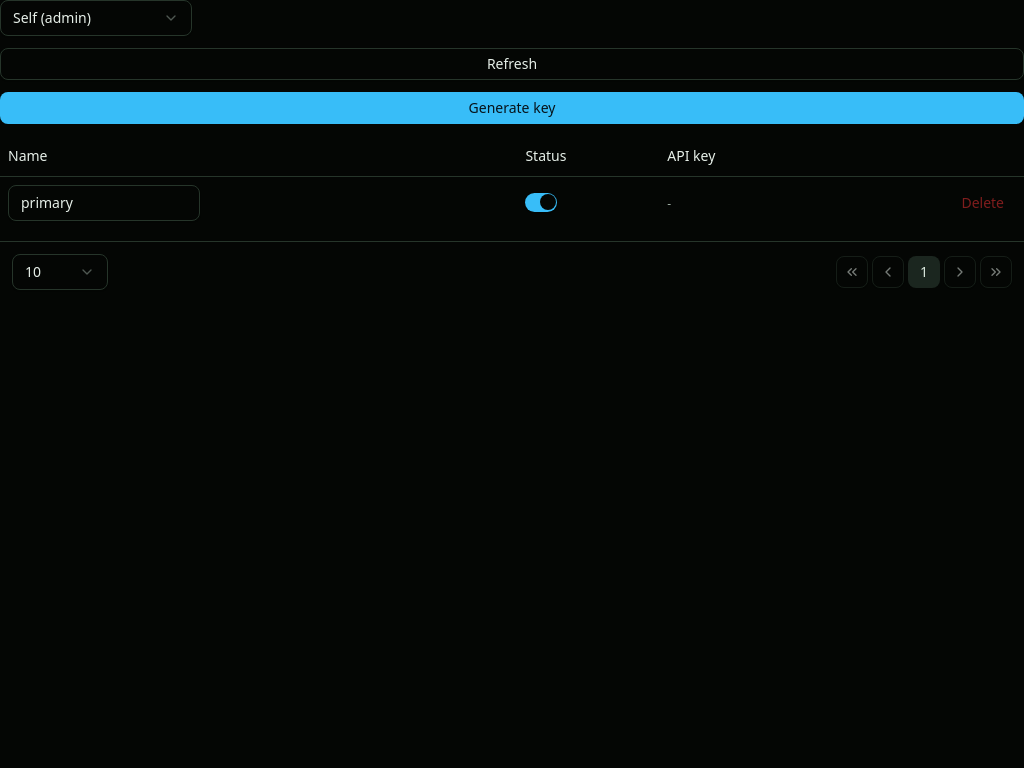
Test: API key route › preserves a failed create draft and shows only the flat one-time secret on retry
Click the button "Generate key" at (512, 108), box [0,92,1023,124]
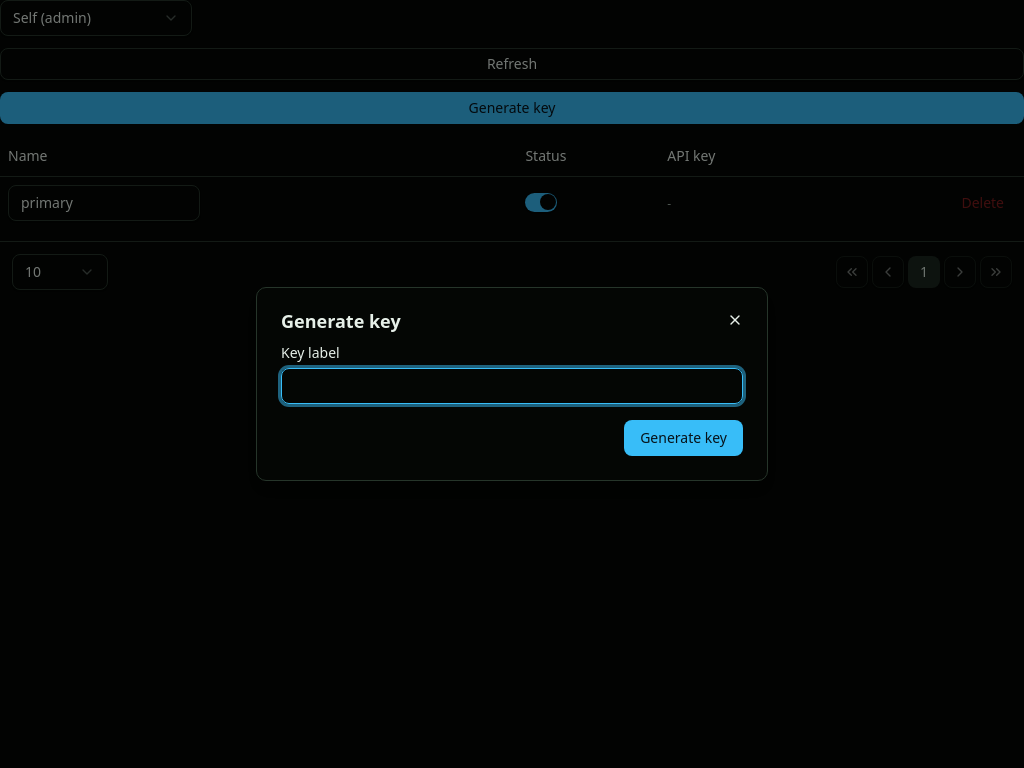
Type "  rotated key  " into the field labelled "Key label" at (512, 386), box [281,368,743,404]
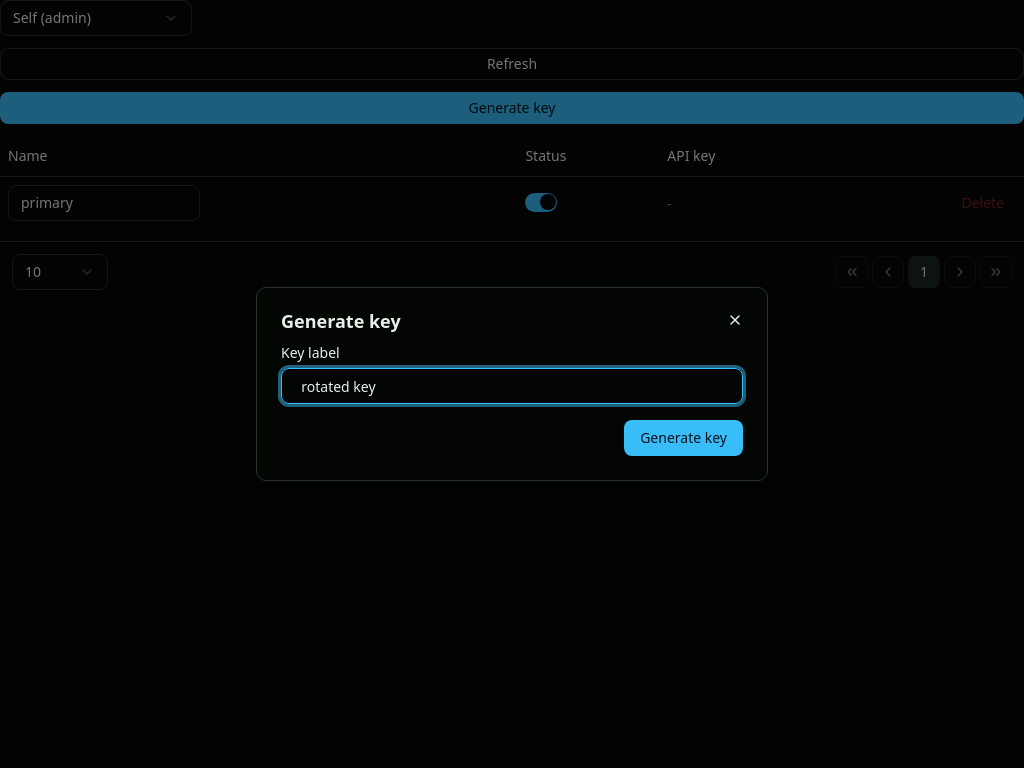
Click the button "Generate key" at (684, 438), box [624,420,743,456]
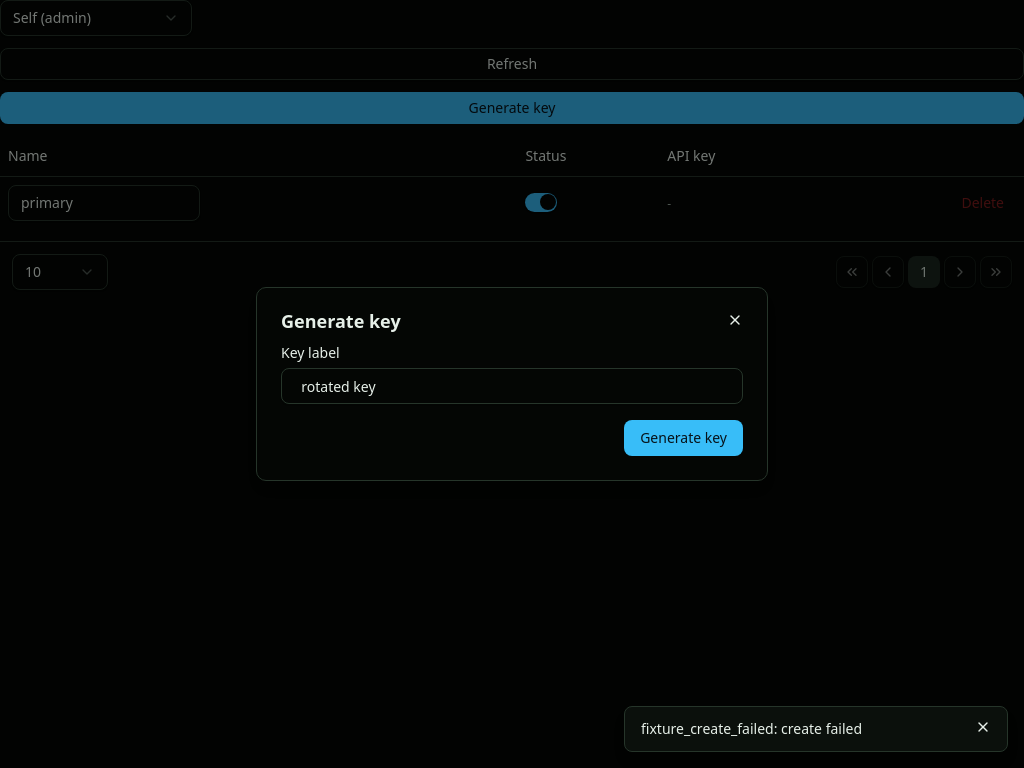
Click the button "Generate key" at (684, 438), box [624,420,743,456]
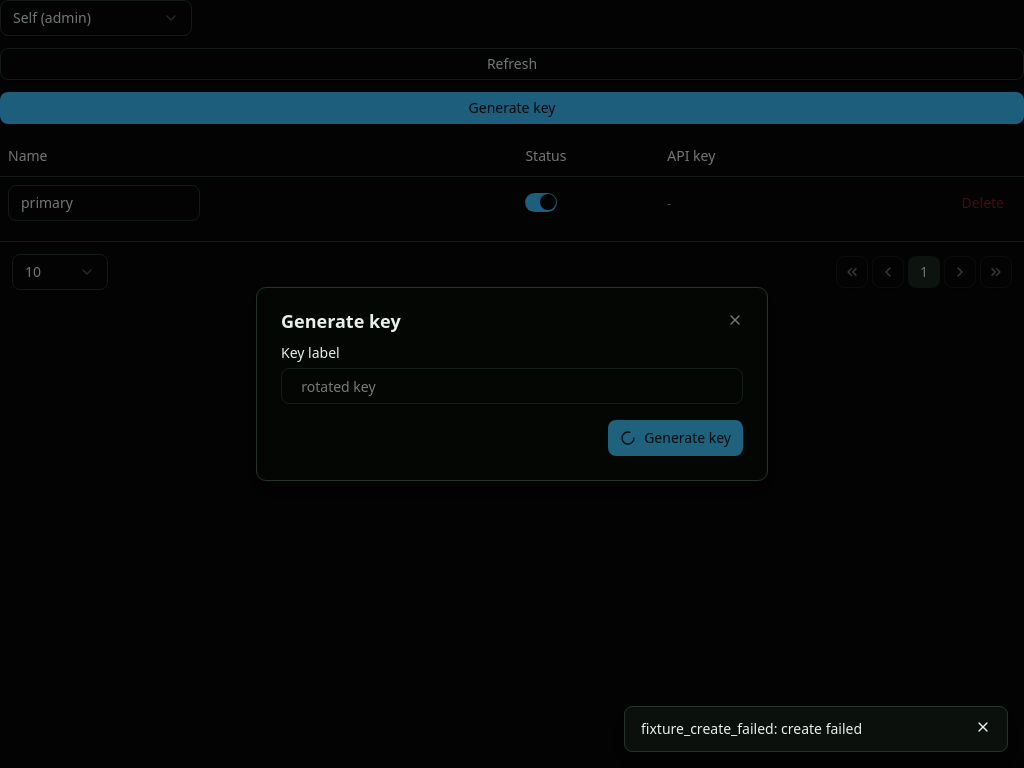
Check: the button "Generate key" is disabled, box [608,420,743,456]
Check: the button named "Cancel" is disabled, box [719,304,751,336]
Press Escape
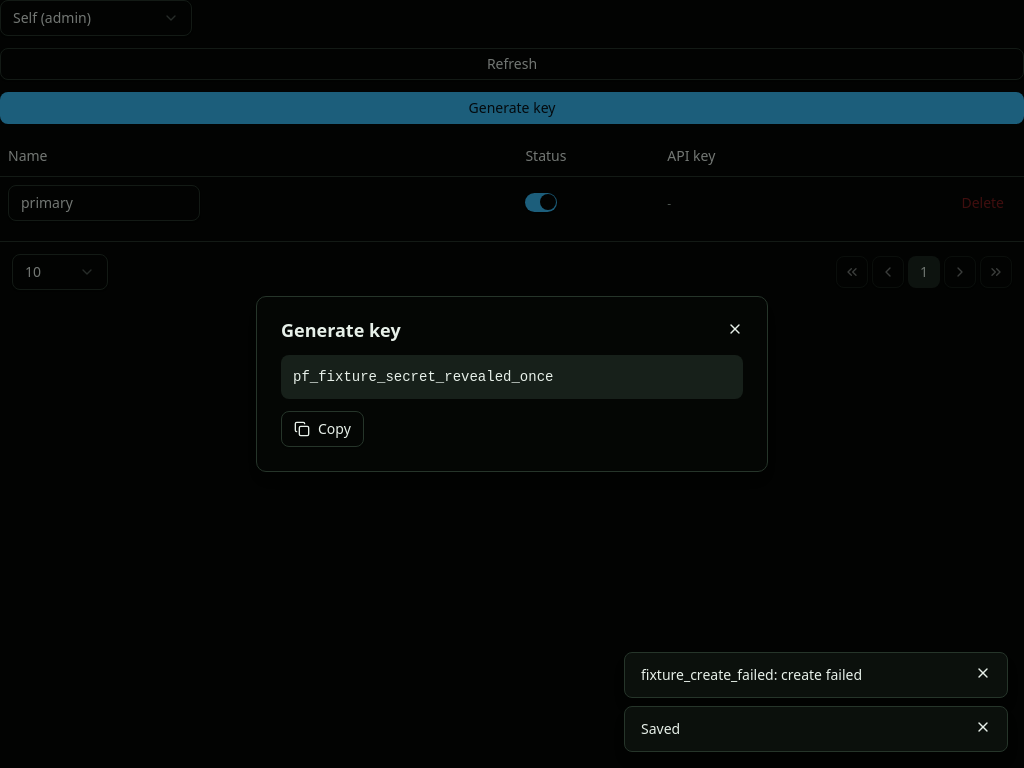
Check: the dialog is shown, box [256,296,768,472]
Check: the text "pf_fixture_secret_revealed_once" is shown, box [281,355,743,399]
